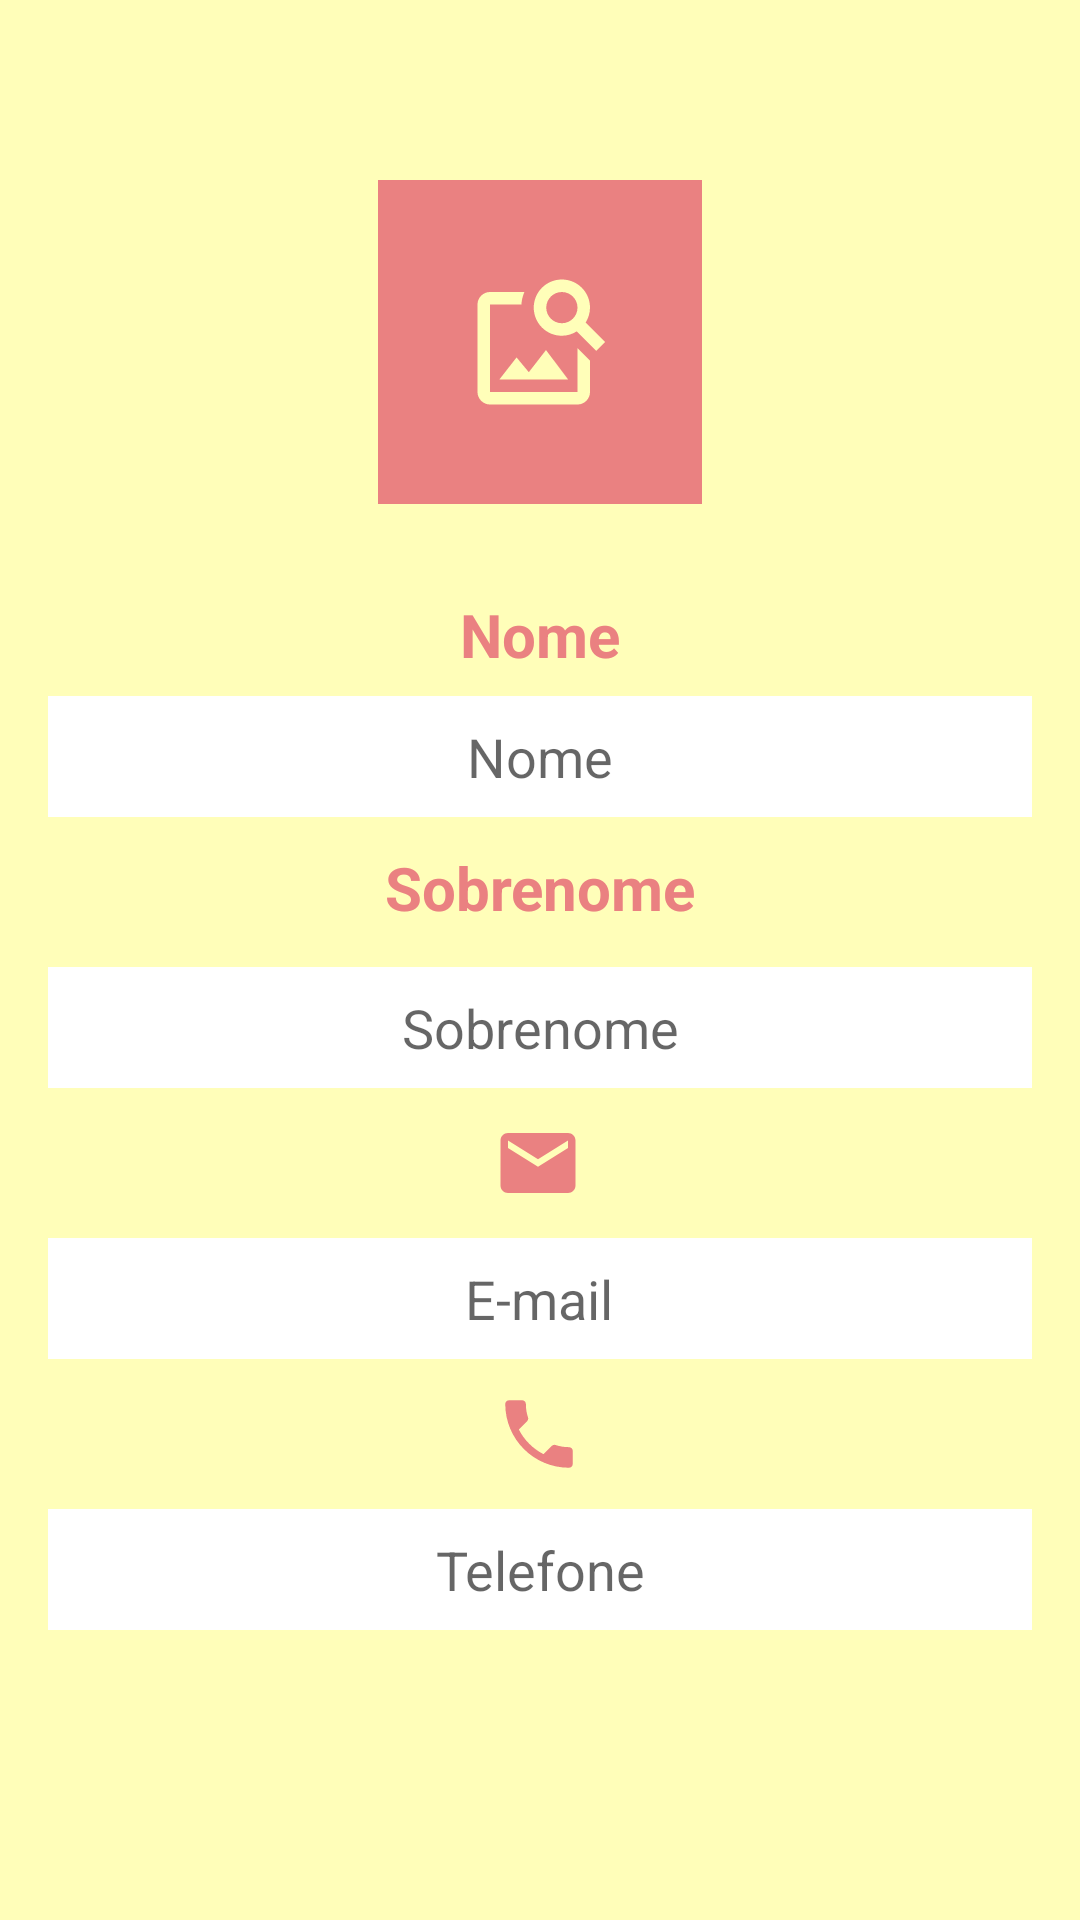

Icons on this 1080px x 1920px Android screen, each with the point to tap as [x,y]:
phone: [539,1434]
search: [540,342]
